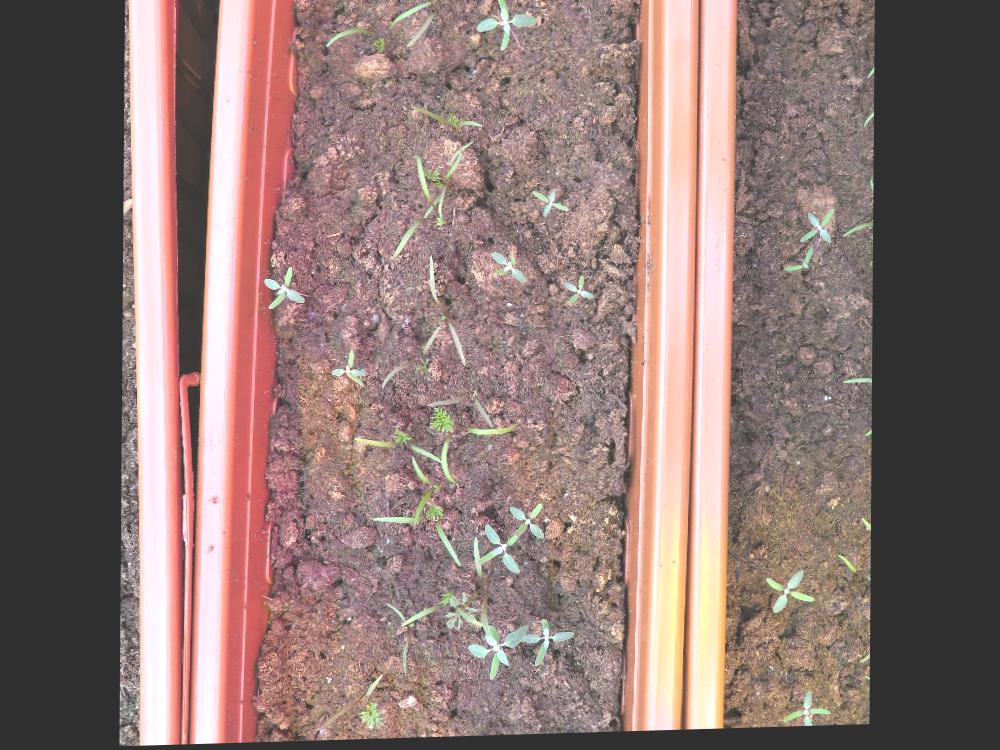weed: (476, 0, 538, 56), (763, 574, 817, 619), (262, 268, 305, 313), (782, 695, 833, 731), (328, 350, 367, 391), (798, 214, 833, 250), (489, 254, 525, 289), (529, 193, 570, 222), (562, 277, 594, 311), (781, 251, 814, 278)
